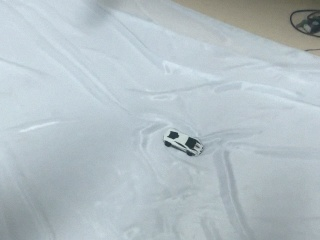toy_car: (163, 129, 205, 157)
